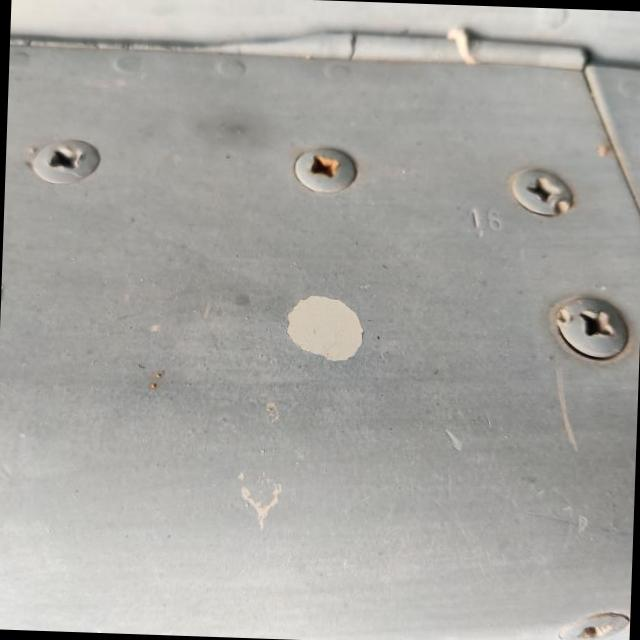Paint-off: (276, 292, 380, 374)
